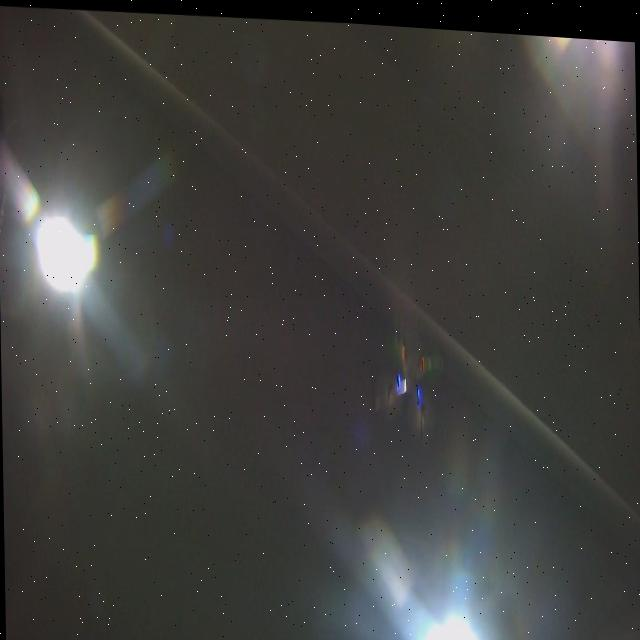drone: (365, 300, 447, 446)
